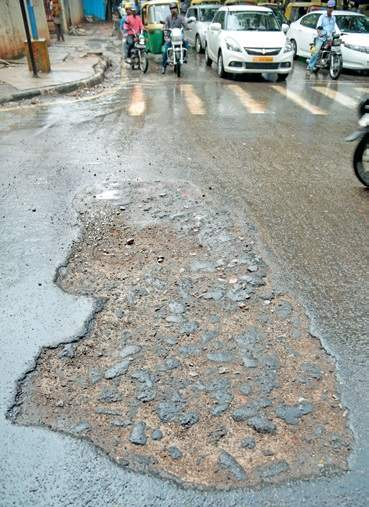pothole: (26, 178, 351, 496)
